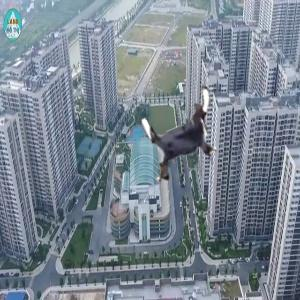drone: (136, 89, 231, 184)
